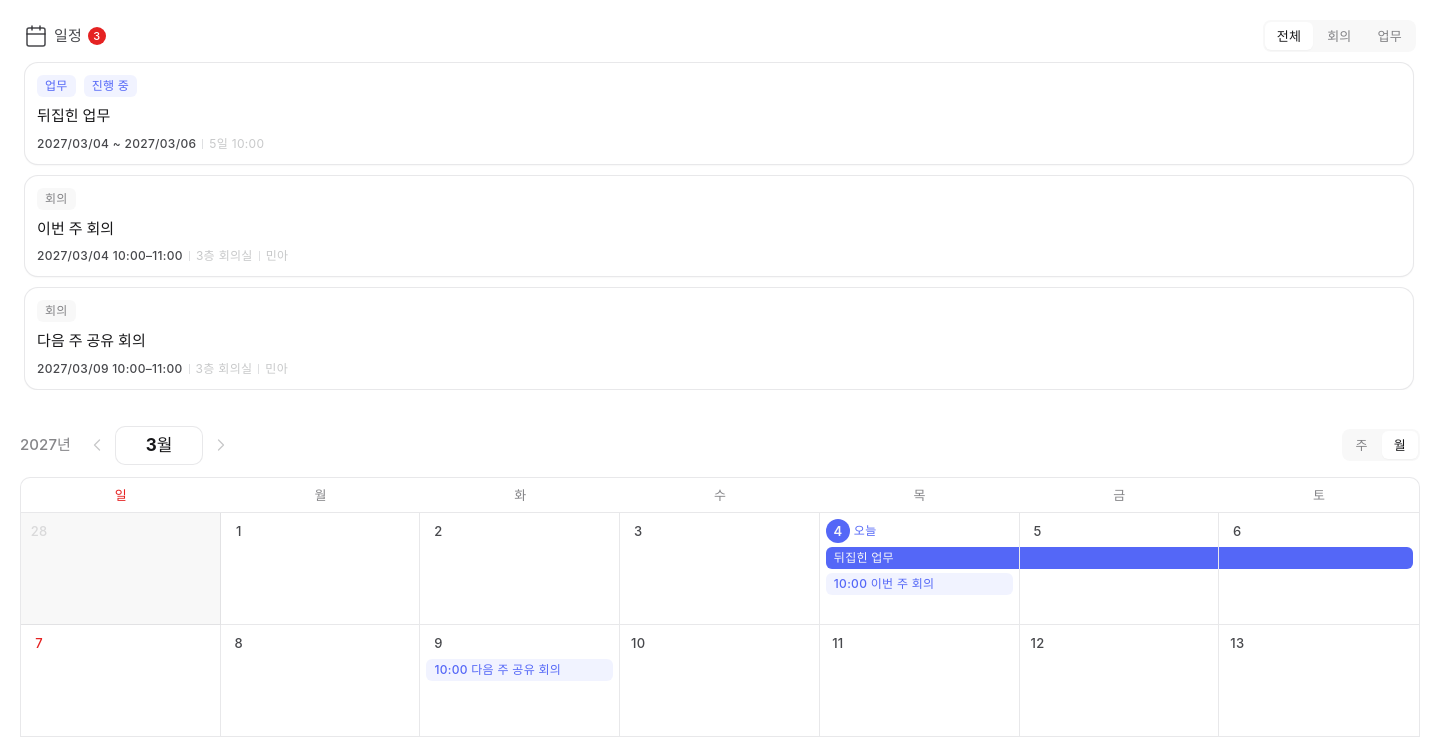
Scenario: 캘린더 골격 › 같은 일정이 그 날을 품는 주 뷰에서는 레일에 선다 — 범위는 뷰를 따라간다 (K18)
The image size is (1440, 737).
Expected: the element with test id "rail-left" shows "이번 주 회의", [37, 218, 114, 238]
Click the tab "주": (1362, 445) [1344, 431, 1380, 459]
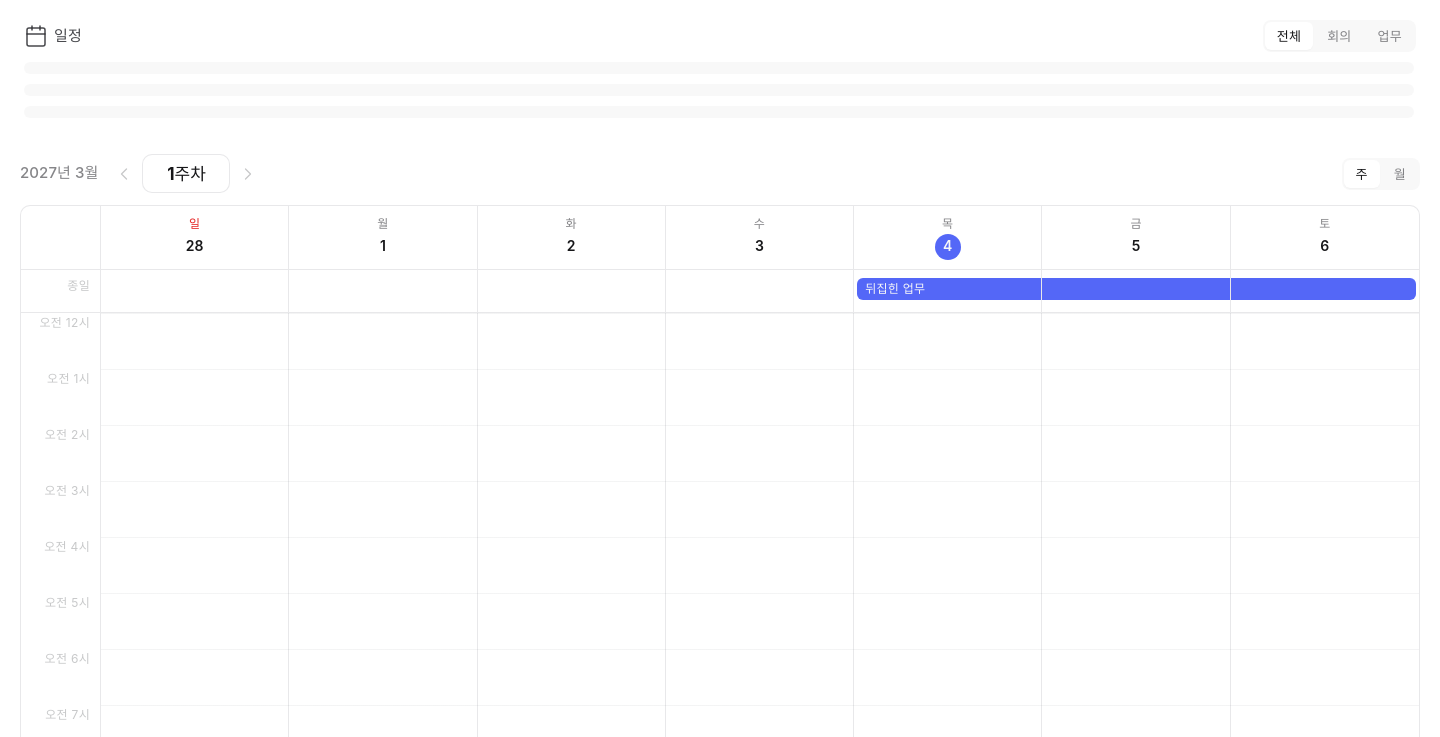
Click the button named "다음 주": (248, 174) [234, 160, 262, 188]
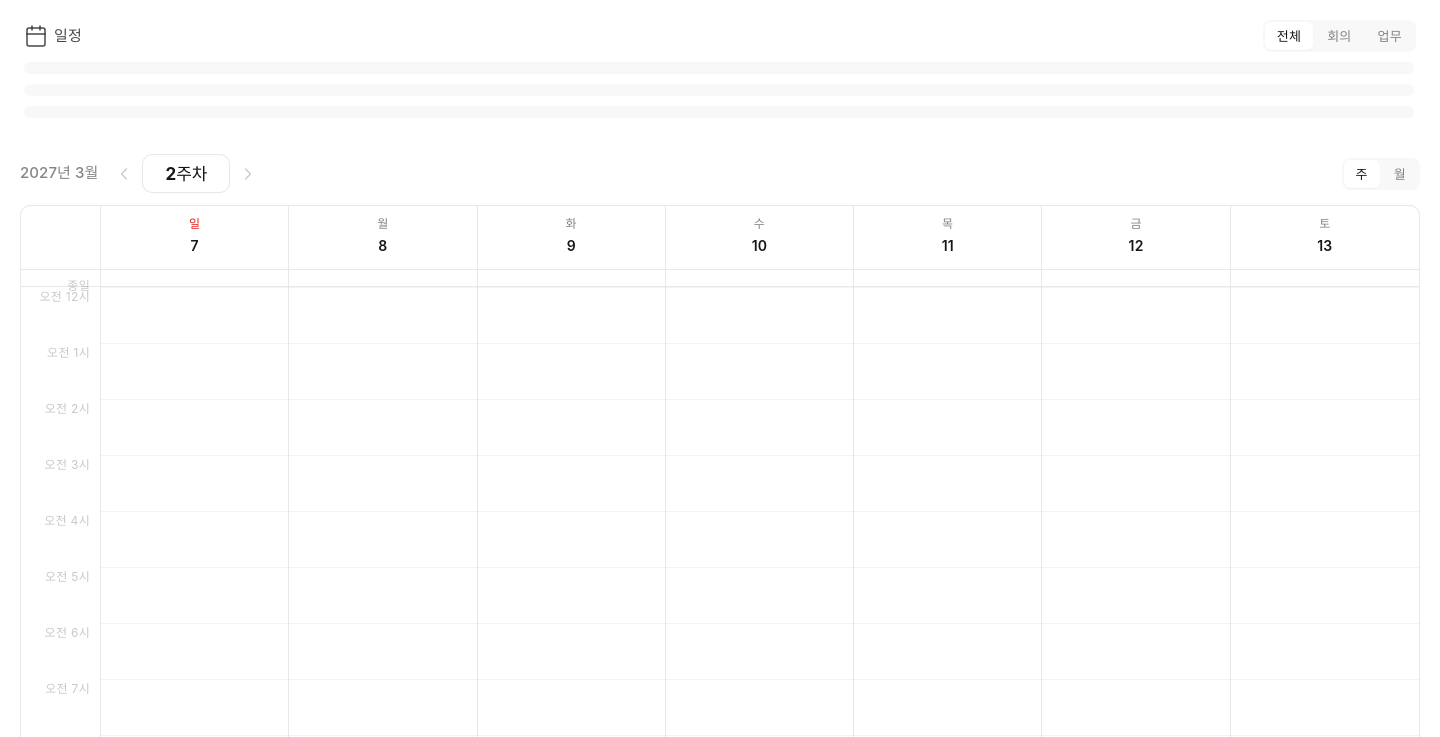
Click the button named "다음 주": (248, 174) [234, 160, 262, 188]
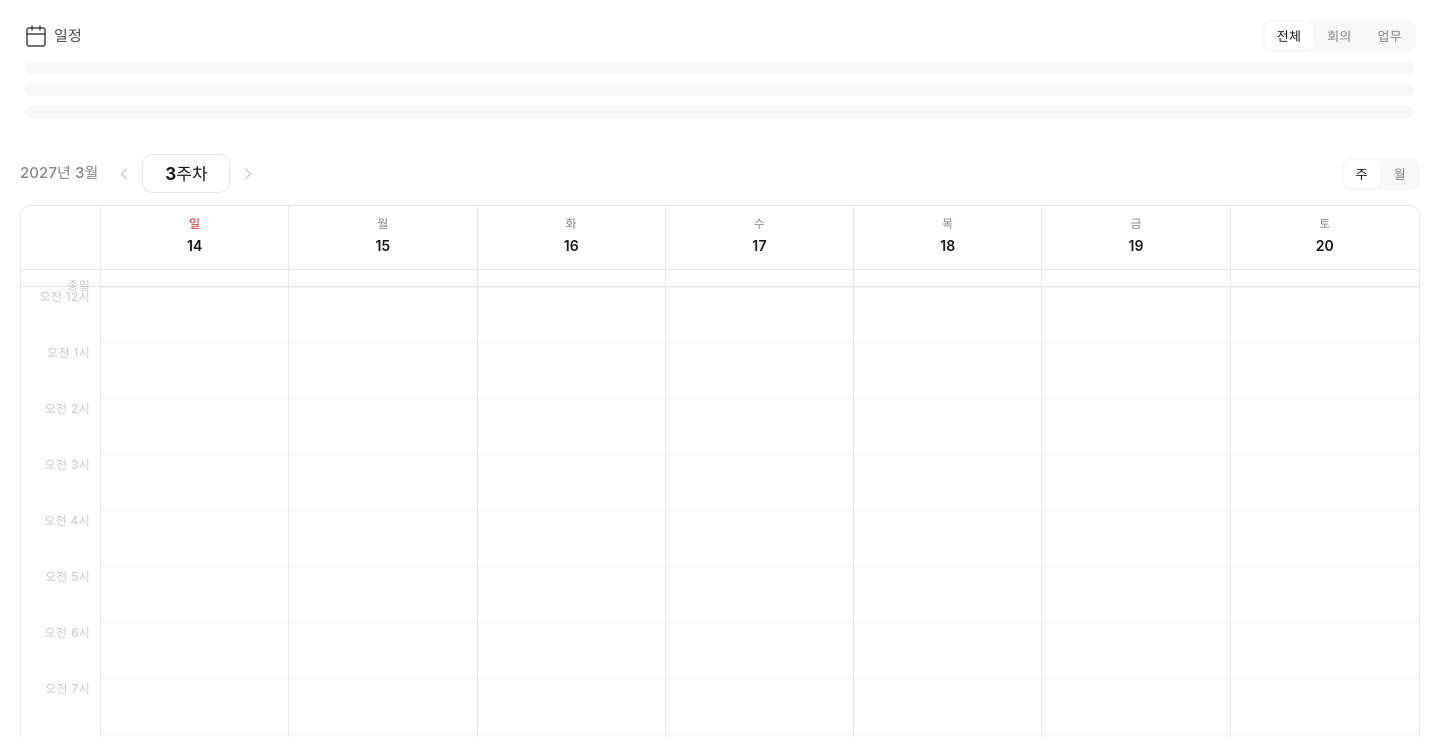
Click the button named "다음 주": (248, 174) [234, 160, 262, 188]
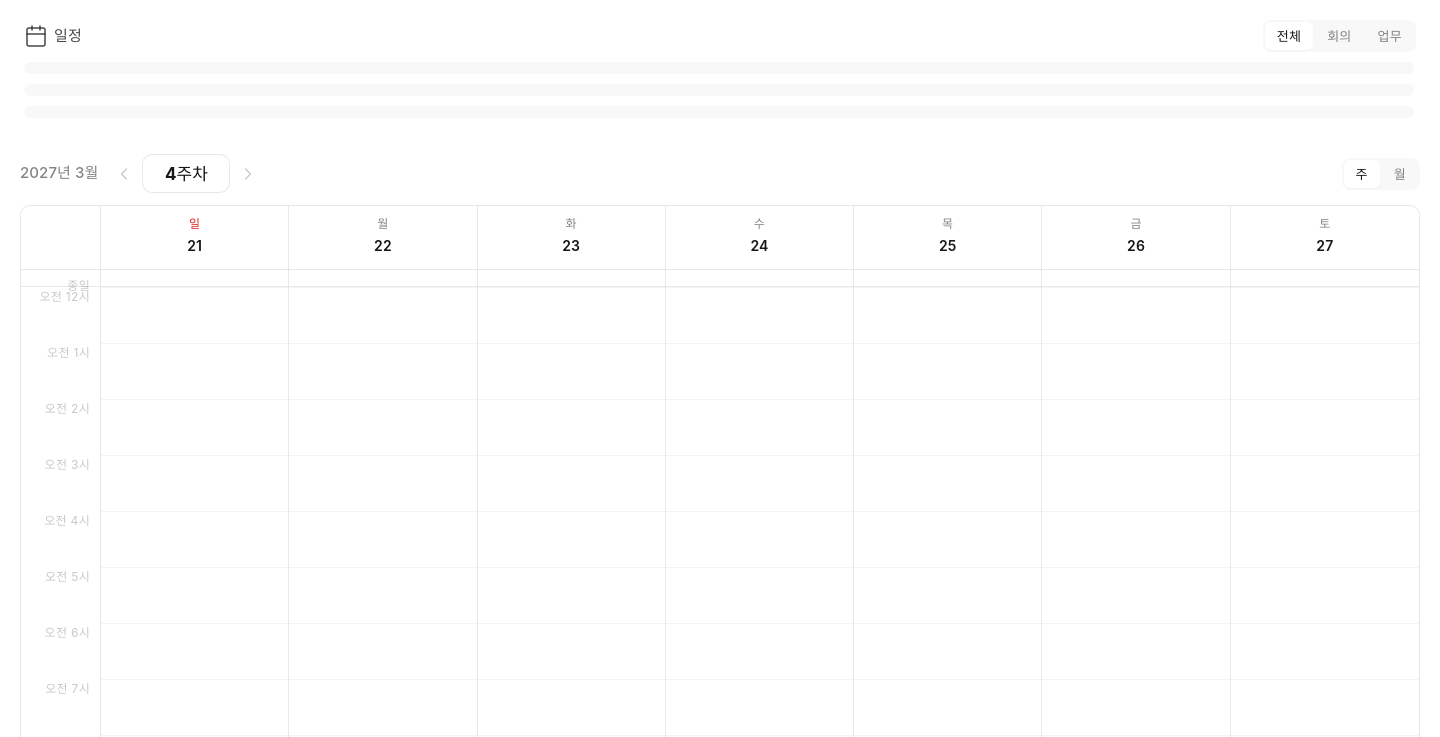
Click the button named "다음 주": (248, 174) [234, 160, 262, 188]
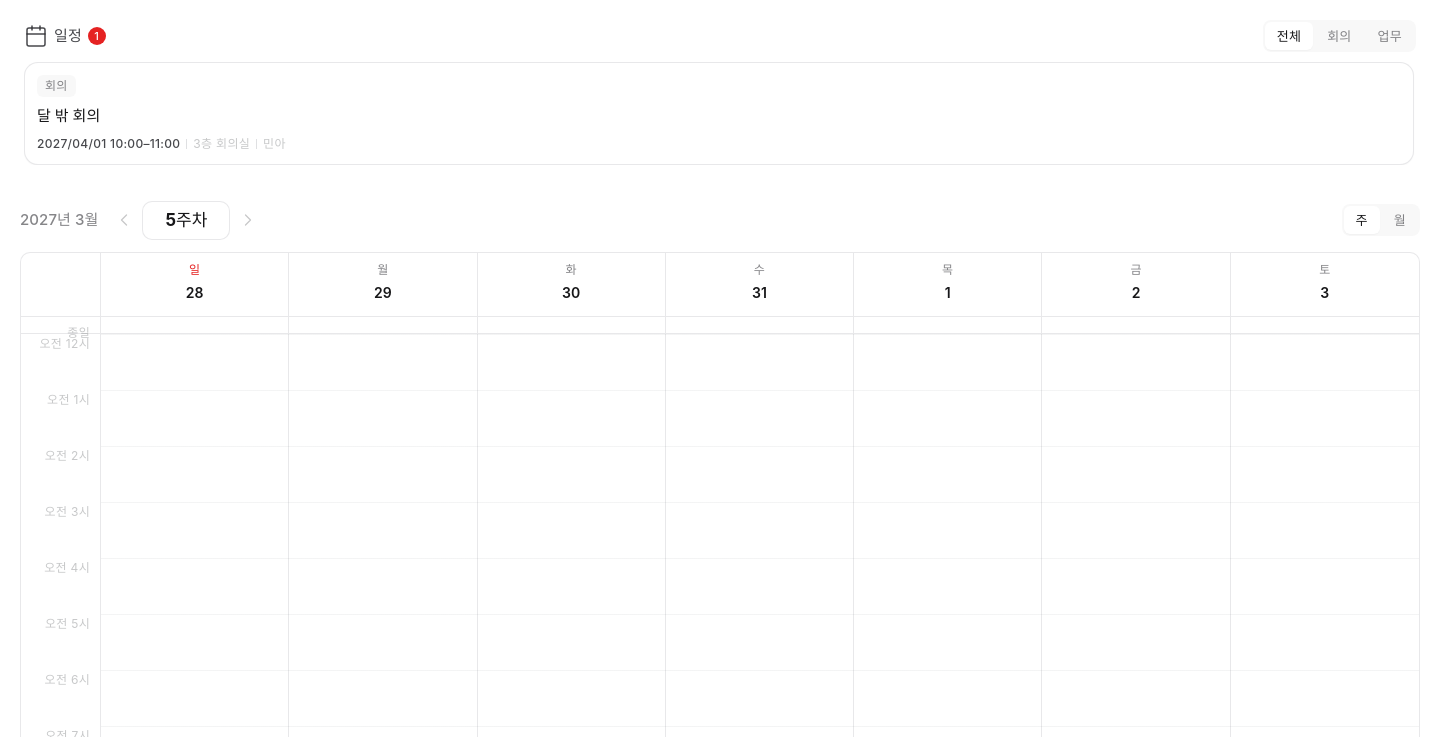
Expected: the element with test id "rail-left" shows "달 밖 회의", [37, 106, 100, 125]
